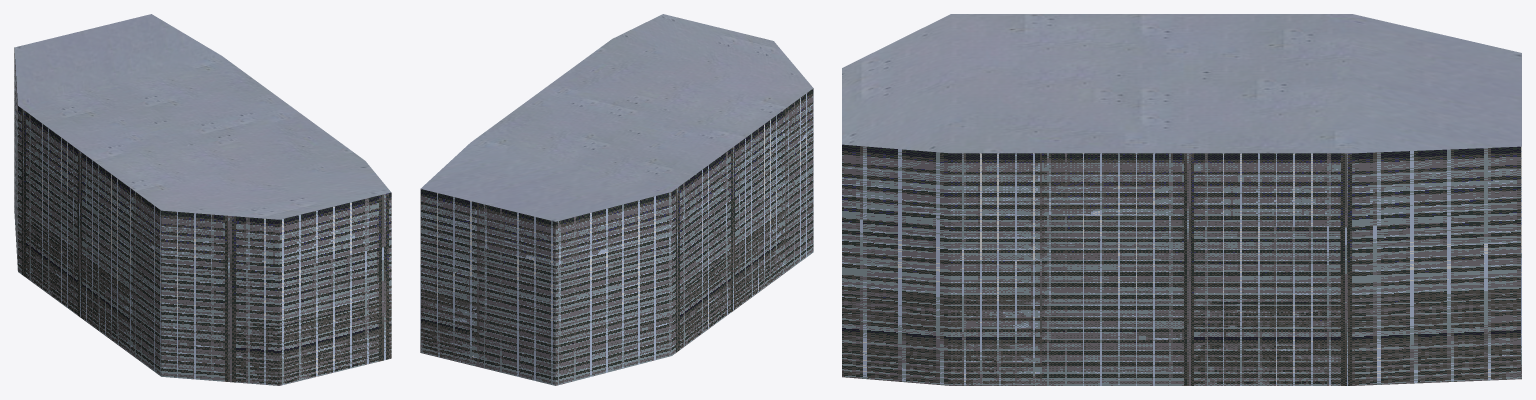
Rendered from giant_office_building.glb.
The picture shows the model from 3 angles, left to right: view 1: azimuth 30°, elevation 25°; view 2: azimuth 150°, elevation 25°; view 3: azimuth 270°, elevation 25°; orthographic projection. The views are drawn at different scales.
Visible parts, largest first — view 1: Building_3; view 2: Building_3; view 3: Building_3.
Part boxes in pixels (left/top/right/bottom): Building_3: left=14, top=14, right=391, bottom=385; Building_3: left=420, top=14, right=813, bottom=385; Building_3: left=842, top=14, right=1521, bottom=385.
Size of the model in its own units: 0.3194 by 0.2485 by 0.6582.
2 materials, 2 textured.
